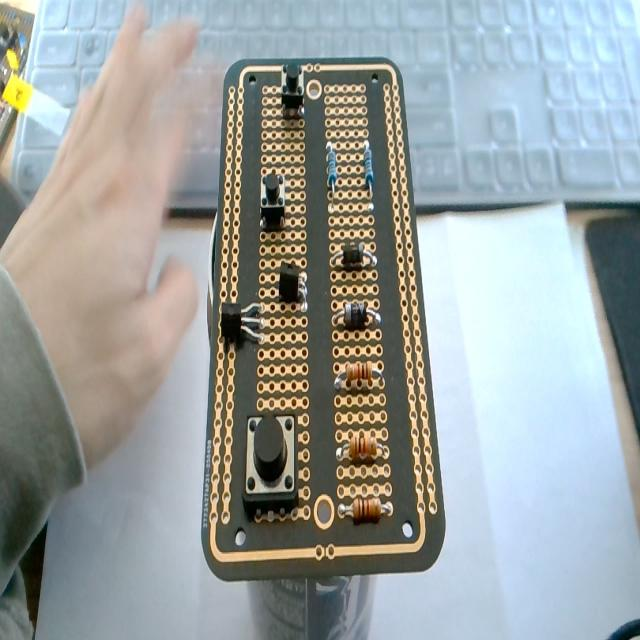diode: (331, 239, 377, 268), (333, 302, 379, 329)
resistor: (337, 483, 399, 536), (336, 425, 386, 469), (324, 140, 344, 210), (359, 136, 379, 205), (335, 365, 383, 392)
switch: (244, 412, 298, 512), (260, 170, 286, 228), (280, 62, 305, 116)
transistor: (219, 295, 269, 359), (276, 261, 309, 310)
